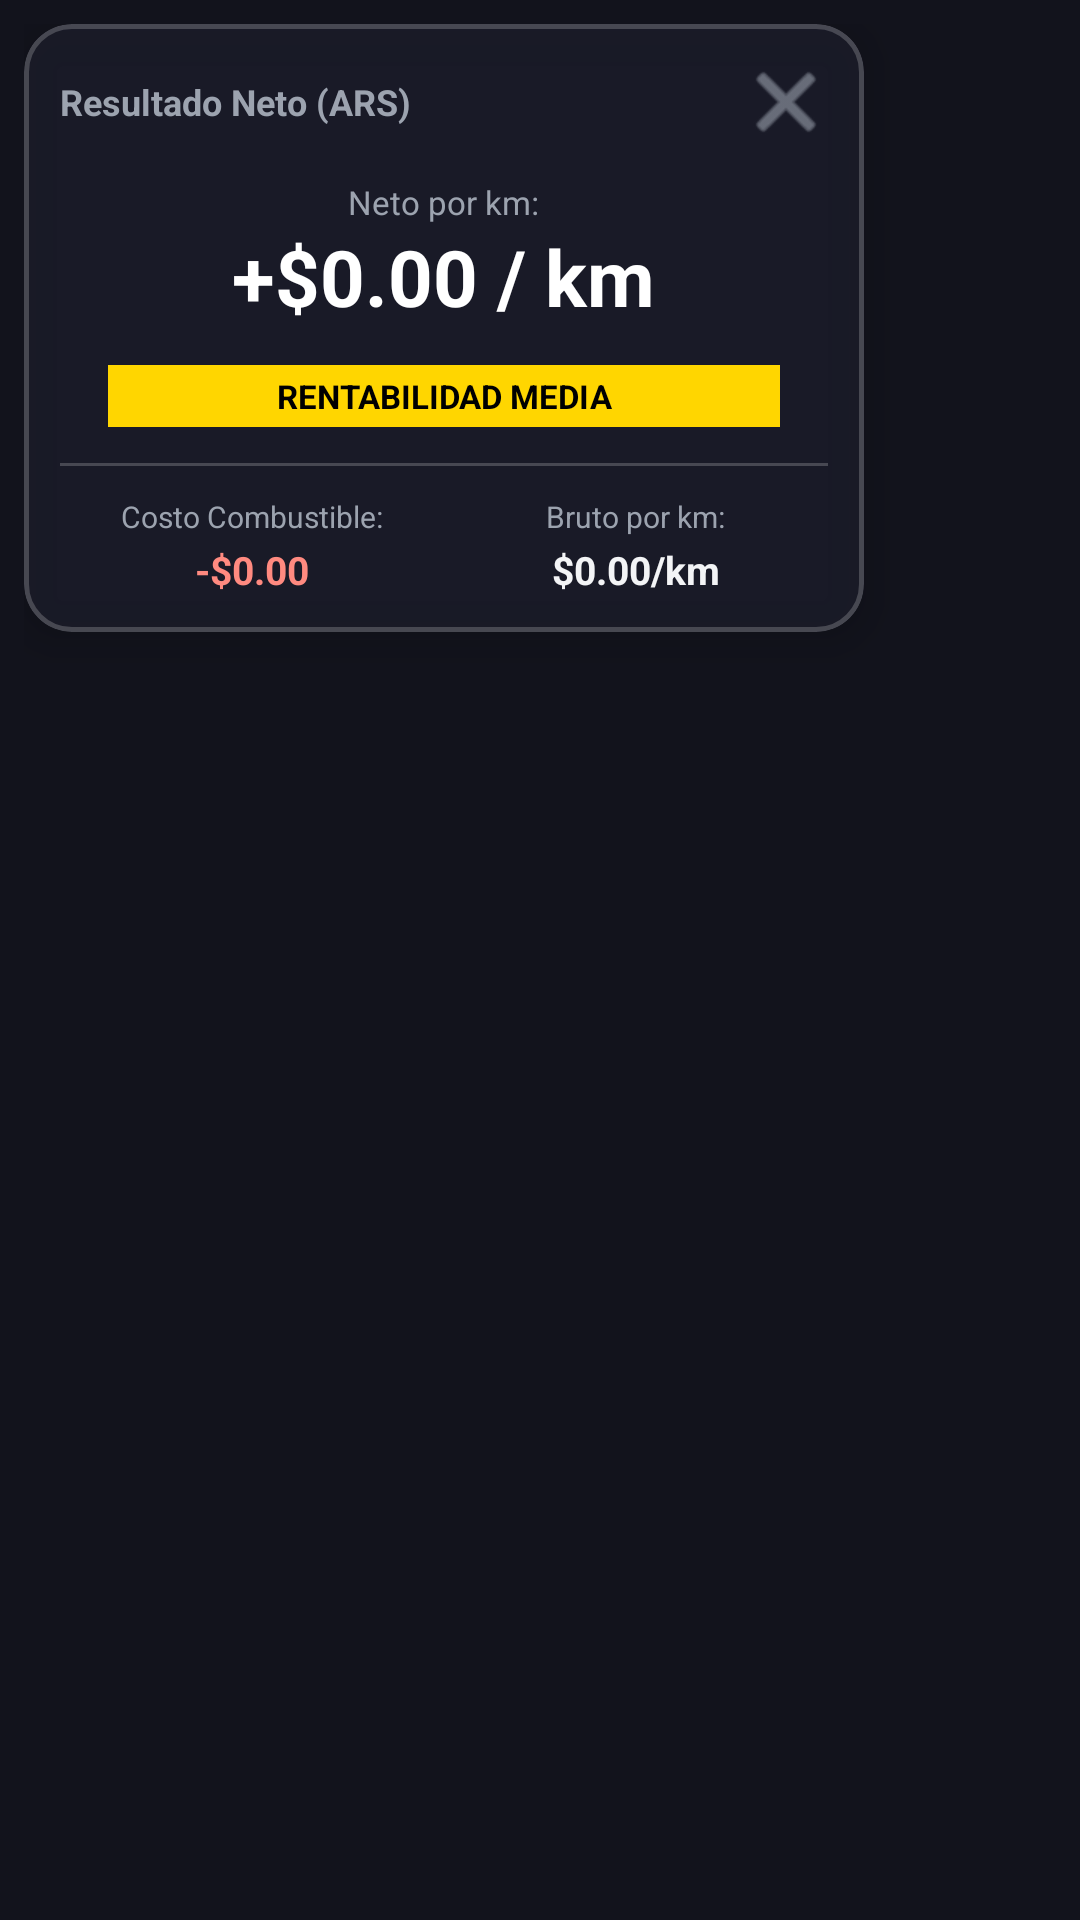

Where to tap for icons on this 1080×1920 app screen, as [x,y]:
Cerrar: [786,102]
